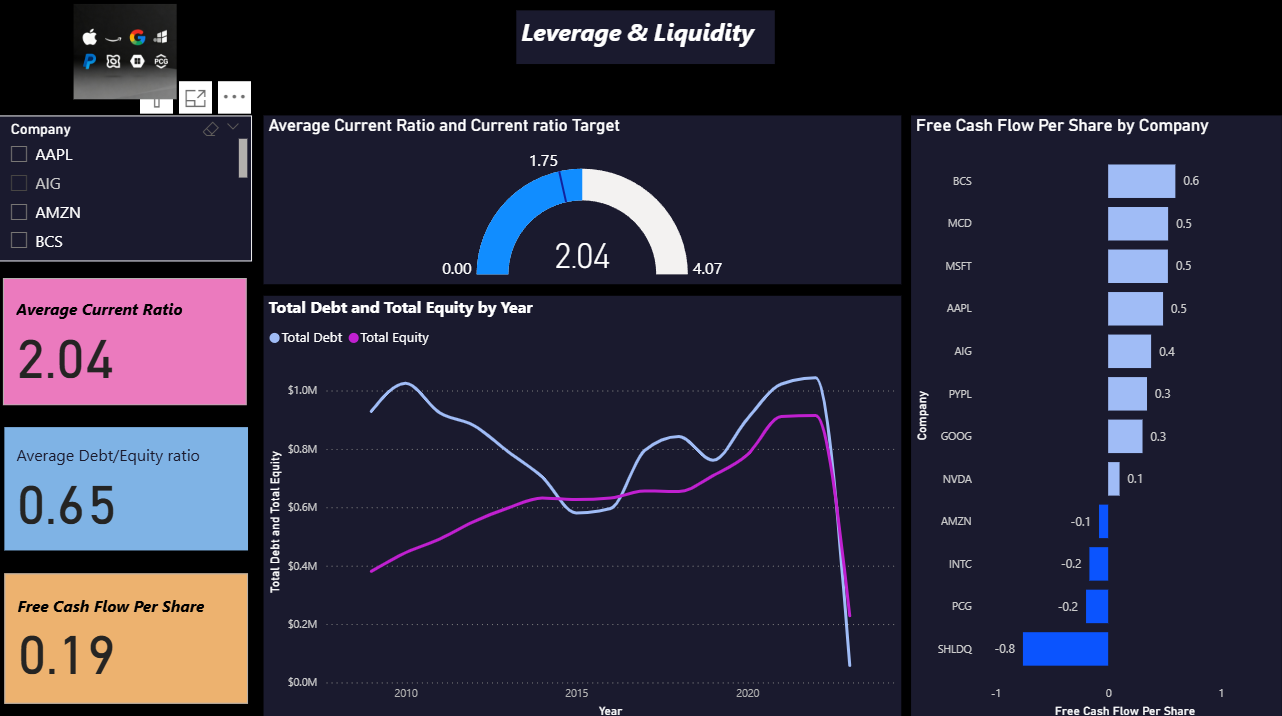

Layout of this report page (visuals, bound fields, positions):
{"tool":"powerbi","page":{"name":"Leverage & Liquidity","canvas":[1280,720],"ordinal":2},"visuals":[{"type":"cardVisual","fields":{"Data":["Key_Measure.Average Current Ratio"]},"box":[0,273.3,253.5,137.3],"z":0},{"type":"cardVisual","fields":{"Data":["Key_Measure.Average Debt/Equity ratio"]},"box":[1.4,421.9,253.5,133.1],"z":1000},{"type":"cardVisual","fields":{"Data":["Key_Measure.Free Cash Flow Per Share"]},"box":[1.4,567.8,253.5,140.2],"z":2000},{"type":"textbox","box":[516.8,11.3,257.7,53.8],"z":3000},{"type":"lineChart","fields":{"Category":["Dim_Date.Year"],"Y":["Key_Measure.Total Debt","Key_Measure.Total Equity"]},"box":[264.8,295.9,635.8,424.8],"z":4000},{"type":"gauge","fields":{"Y":["Key_Measure.Average Current Ratio"],"TargetValue":["Key_Measure.Current ration Target"]},"box":[264.8,116.1,635.8,168.5],"z":5000},{"type":"clusteredBarChart","fields":{"Y":["Key_Measure.Free Cash Flow Per Share"],"Category":["Dim_Company.Company "]},"box":[910.4,116.1,369.6,604.6],"z":6000},{"type":"slicer","fields":{"Values":["Dim_Company.Company "]},"box":[0,116.1,253.5,145.8],"z":7000},{"type":"image","box":[0,0,253.5,104.8],"z":8000}]}

Visuals, with their boxes on the page's 1280x720 design canvas (x1, y1, x2, y2). These are canvas units, not pixel positions in the 1282x716 screenshot, which may show the page scaled, cropped or inside an application window:
cardVisual - Key_Measure.Average Current Ratio: box(0, 273, 254, 411)
cardVisual - Key_Measure.Average Debt/Equity ratio: box(1, 422, 255, 555)
cardVisual - Key_Measure.Free Cash Flow Per Share: box(1, 568, 255, 708)
textbox: box(517, 11, 774, 65)
lineChart - Dim_Date.Year x Key_Measure.Total Debt: box(265, 296, 901, 721)
gauge - Key_Measure.Average Current Ratio x Key_Measure.Current ration Target: box(265, 116, 901, 285)
clusteredBarChart - Key_Measure.Free Cash Flow Per Share x Dim_Company.Company : box(910, 116, 1280, 721)
slicer - Dim_Company.Company : box(0, 116, 254, 262)
image: box(0, 0, 254, 105)
